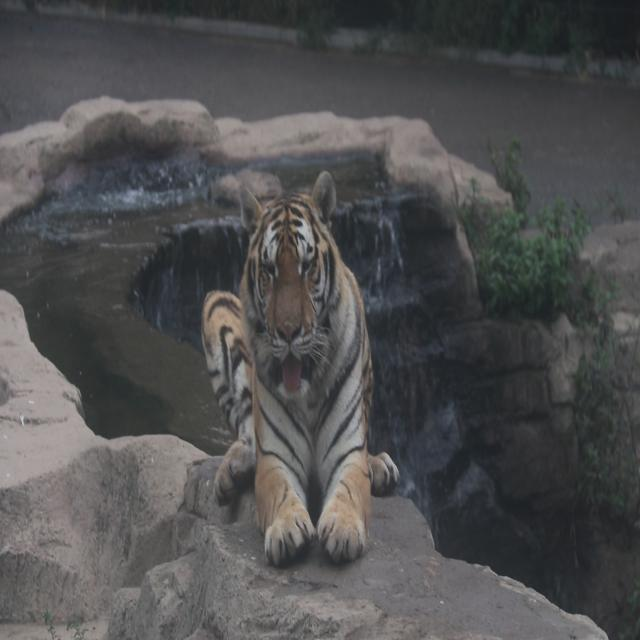Tiger: (192, 155, 414, 596)
